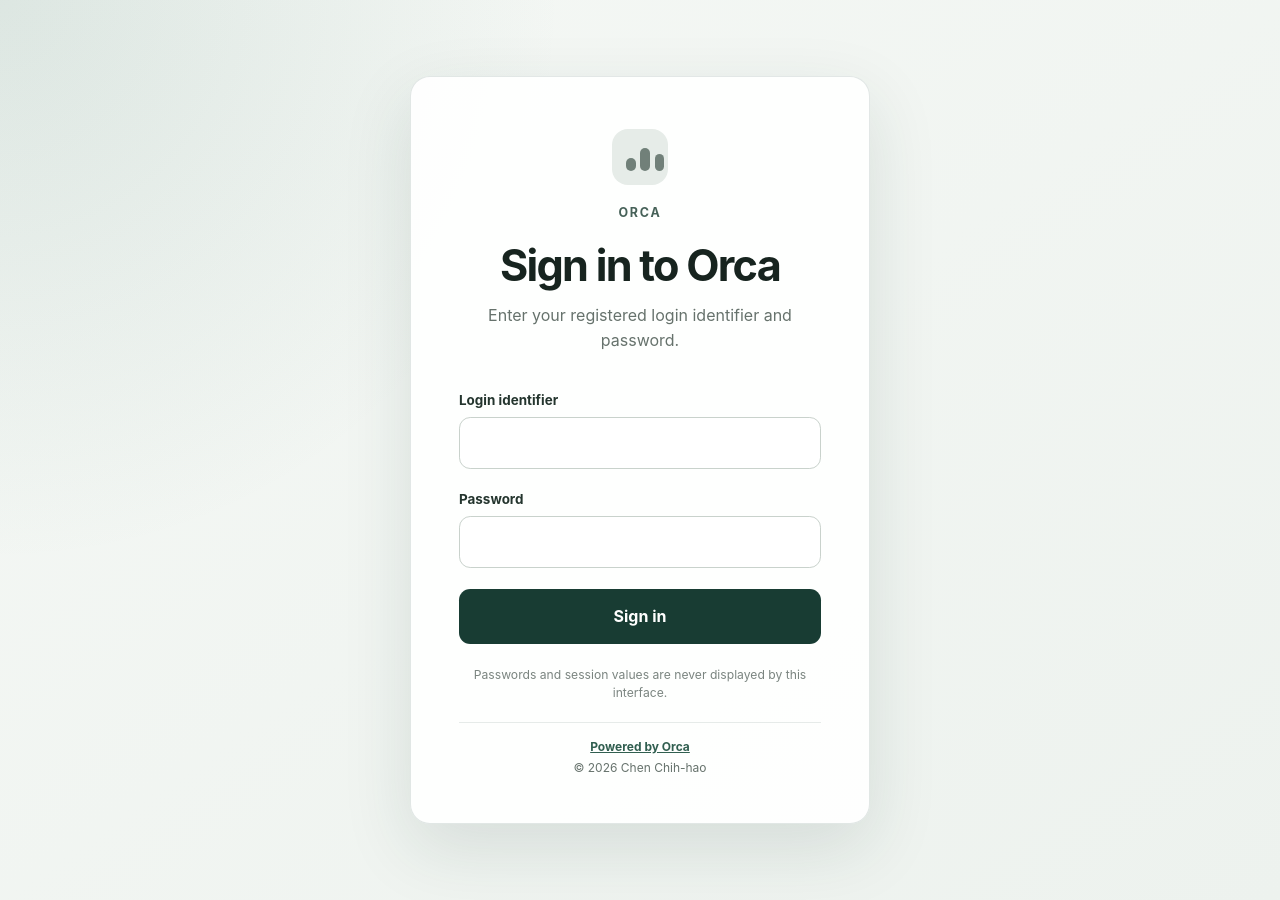
it: frontend login result shell › submits credentials and shows a safe success result
The image size is (1280, 900).
Type "orca-user" into the field labelled "Login identifier". click: (640, 443)
box: [459, 417, 821, 469]
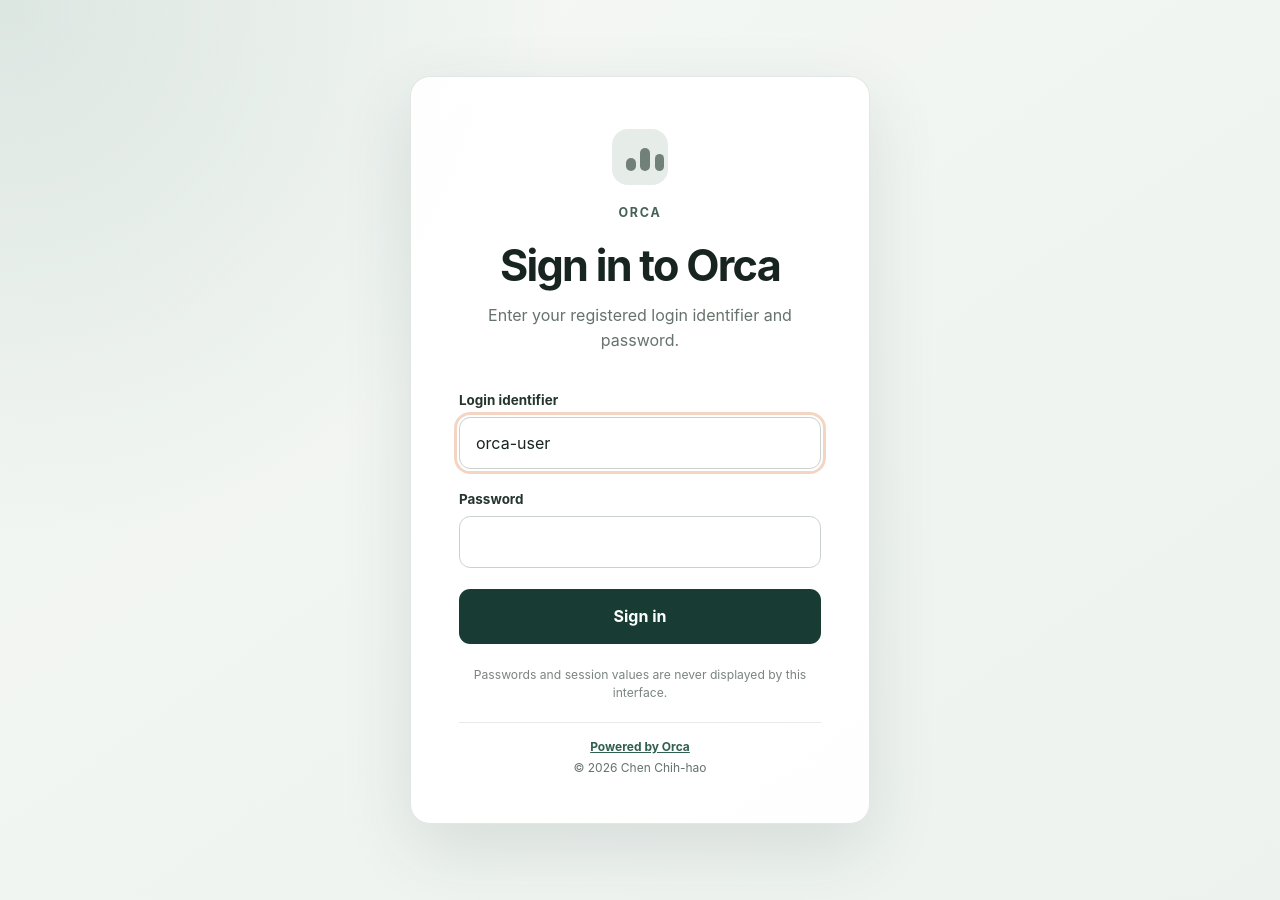
Type "not-shown" into the password field labelled "Password". click: (640, 542)
box: [459, 516, 821, 568]
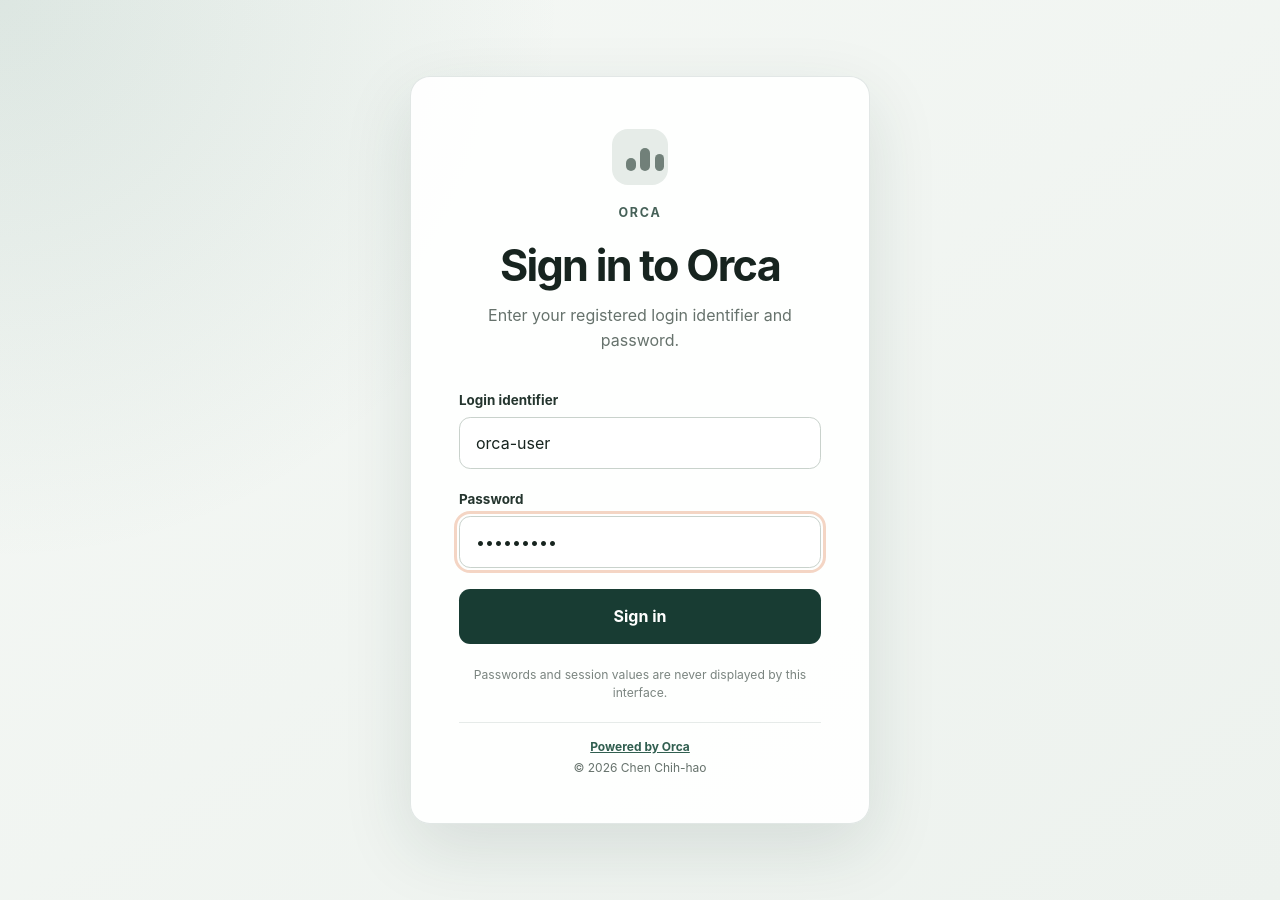
Click the button "Sign in". click: (640, 616)
box: [459, 589, 821, 644]
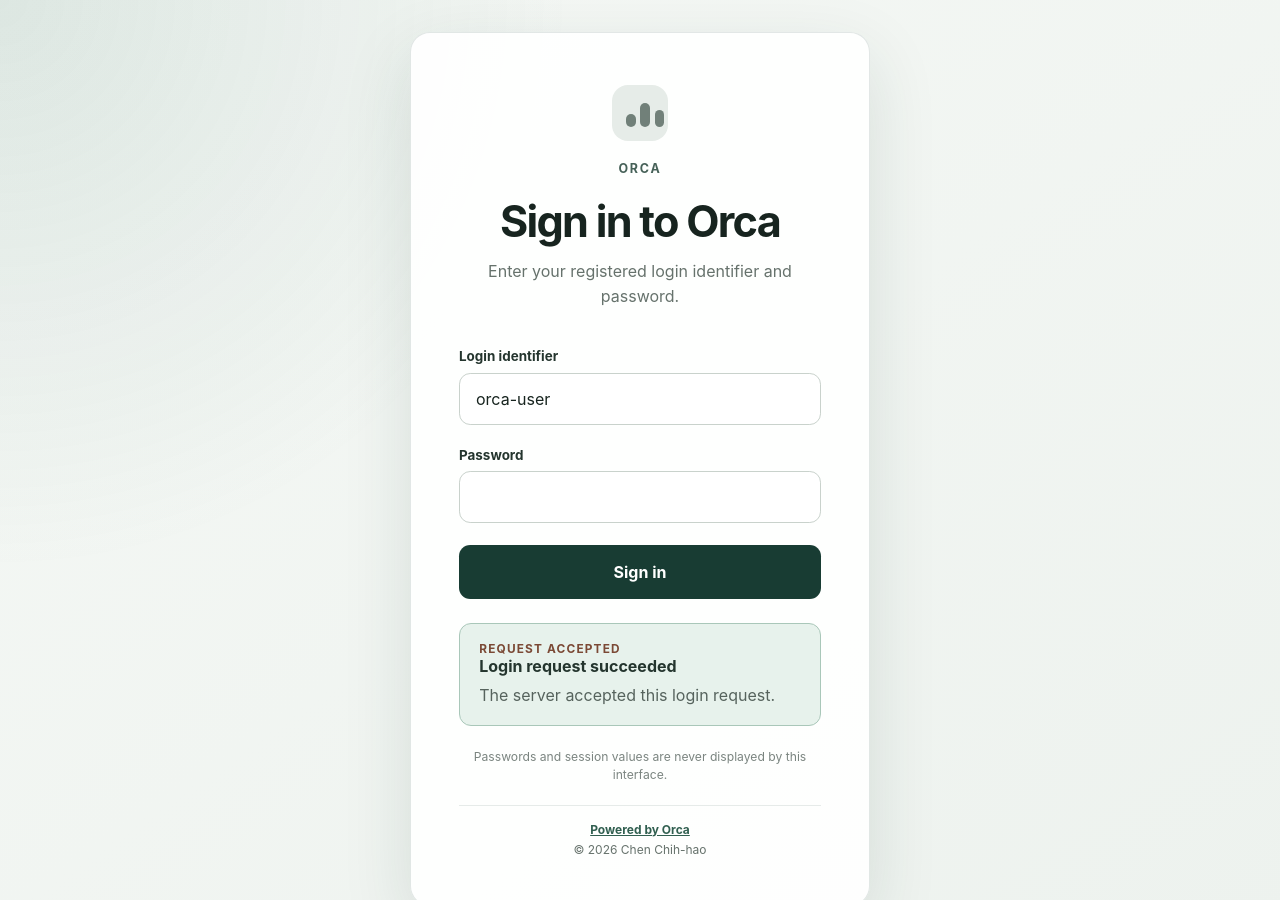
expect the message shows "Login request succeeded": met, box [479, 656, 677, 676]
